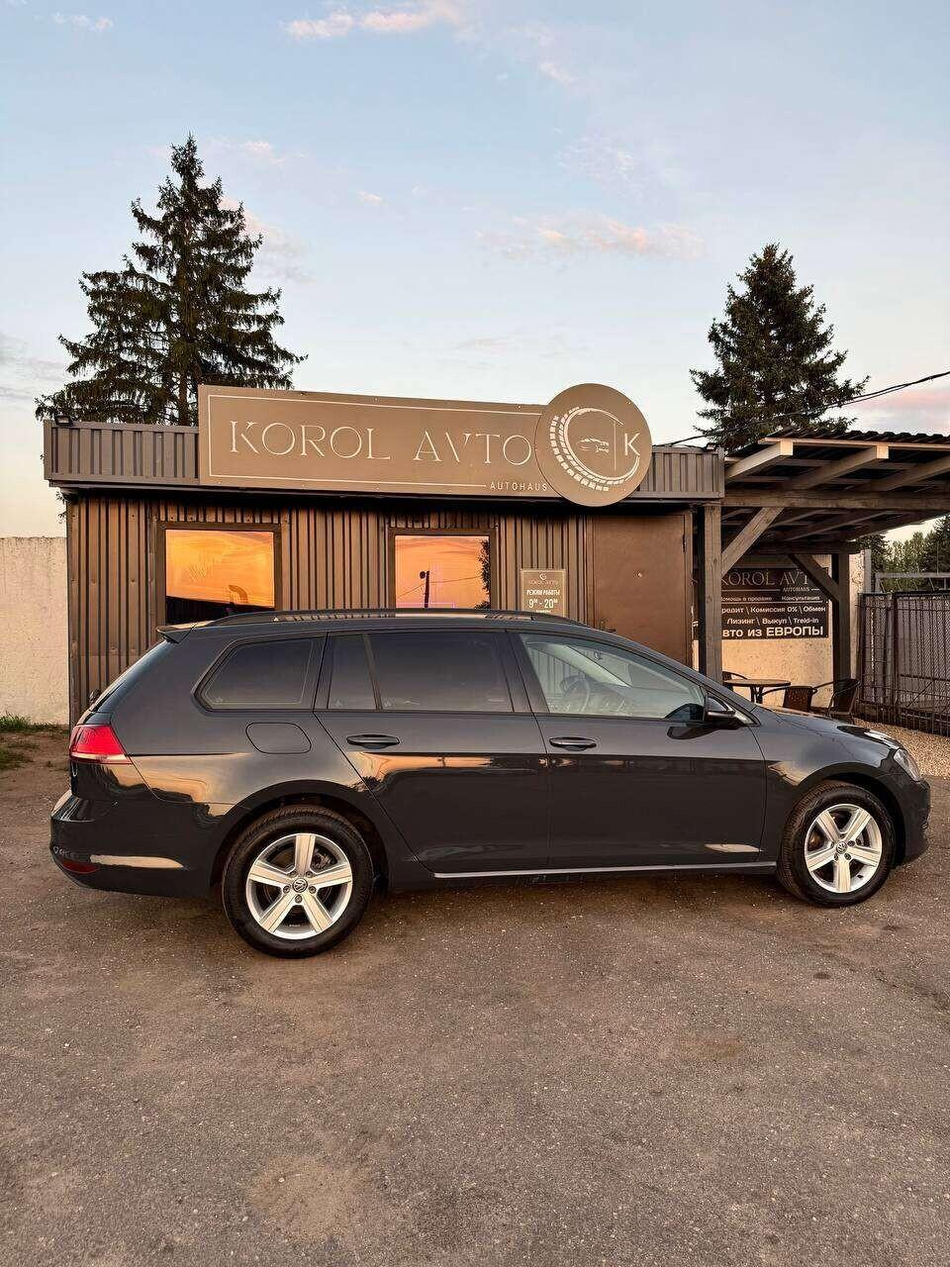Golf_2012-2017: (45, 617, 938, 964)
